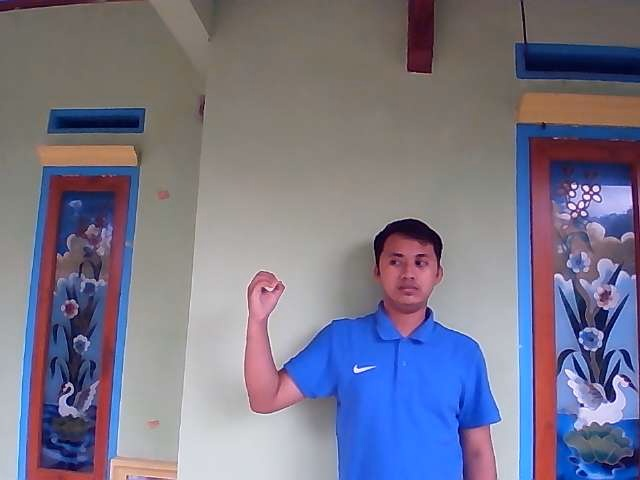O: (246, 270, 286, 320)
